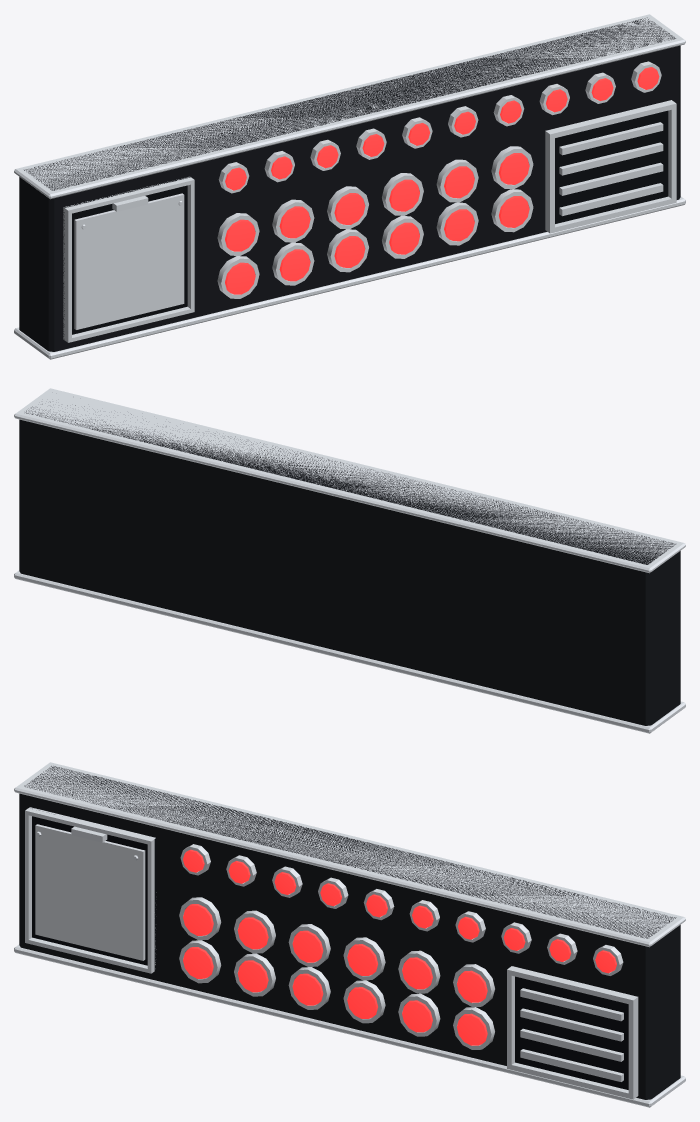
File: rb_round_grid.glb
The picture shows the model from 3 angles, top to bottom: view 1: azimuth 30°, elevation 25°; view 2: azimuth 150°, elevation 25°; view 3: azimuth 330°, elevation 25°; orthographic projection.
Visible parts, largest first — view 1: rb_round_grid_deco_body, rb_round_grid_chrome, rb_round_grid_lamp_tail, rb_round_grid_deco_plate, rb_round_grid_deco_trim; view 2: rb_round_grid_deco_body, rb_round_grid_chrome; view 3: rb_round_grid_deco_body, rb_round_grid_chrome, rb_round_grid_lamp_tail, rb_round_grid_deco_plate, rb_round_grid_deco_trim.
Part boxes in pixels (x1=…): rb_round_grid_deco_body: x1=19, y1=17, x2=680, y2=351; rb_round_grid_chrome: x1=14, y1=14, x2=685, y2=359; rb_round_grid_lamp_tail: x1=225, y1=67, x2=659, y2=294; rb_round_grid_deco_plate: x1=74, y1=193, x2=184, y2=329; rb_round_grid_deco_trim: x1=63, y1=110, x2=668, y2=339; rb_round_grid_deco_body: x1=19, y1=402, x2=680, y2=725; rb_round_grid_chrome: x1=14, y1=388, x2=685, y2=733; rb_round_grid_deco_body: x1=19, y1=766, x2=680, y2=1099; rb_round_grid_chrome: x1=14, y1=762, x2=685, y2=1107; rb_round_grid_lamp_tail: x1=183, y1=849, x2=616, y2=1045; rb_round_grid_deco_plate: x1=35, y1=824, x2=145, y2=960; rb_round_grid_deco_trim: x1=29, y1=807, x2=628, y2=1089.
Bounding box in the file's own units: 2.42 × 0.6 × 0.273.
